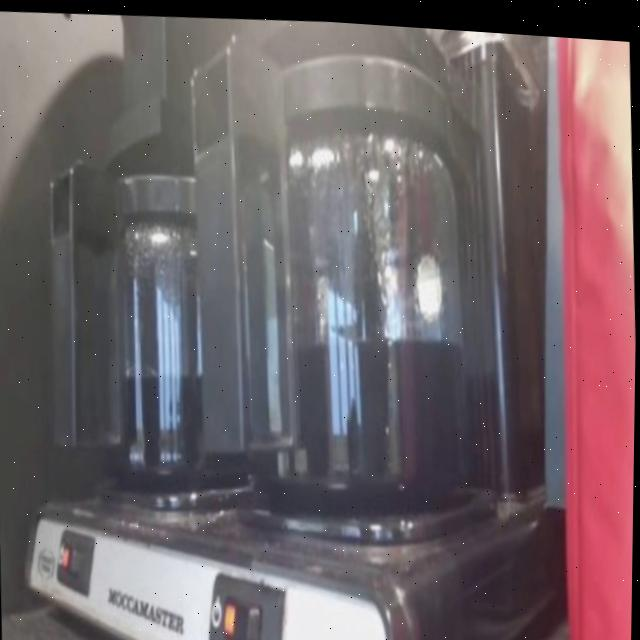coffee: (224, 30, 490, 532), (76, 147, 267, 509)
